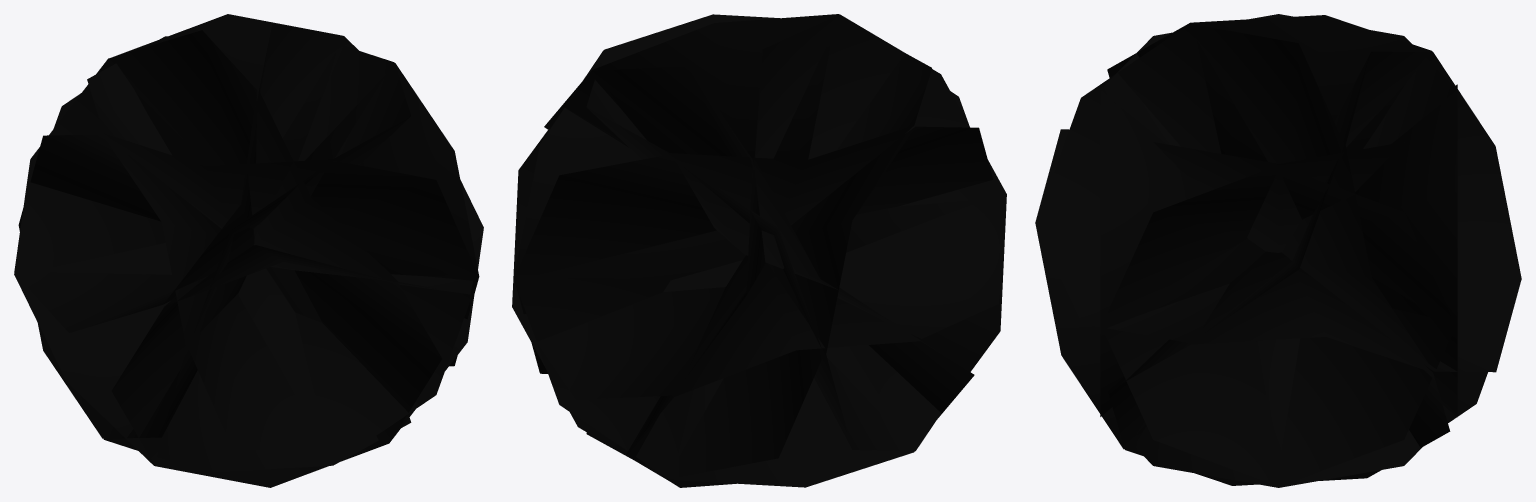
The model's file is bullet_impact_mesh.FBX.
3 views of the same model, side by side, from view 1: azimuth 30°, elevation 25°; view 2: azimuth 150°, elevation 25°; view 3: azimuth 270°, elevation 25° (orthographic). The views are drawn at different scales.
Parts seen in each view (by area): view 1: Sphere04; view 2: Sphere04; view 3: Sphere04.
Part boxes in pixels (x1,y1,x2,y2): Sphere04: [14, 14, 483, 487]; Sphere04: [512, 14, 1006, 487]; Sphere04: [1035, 14, 1521, 487].
Size of the model in its own units: 0.00927 by 0.00932 by 0.00914.
